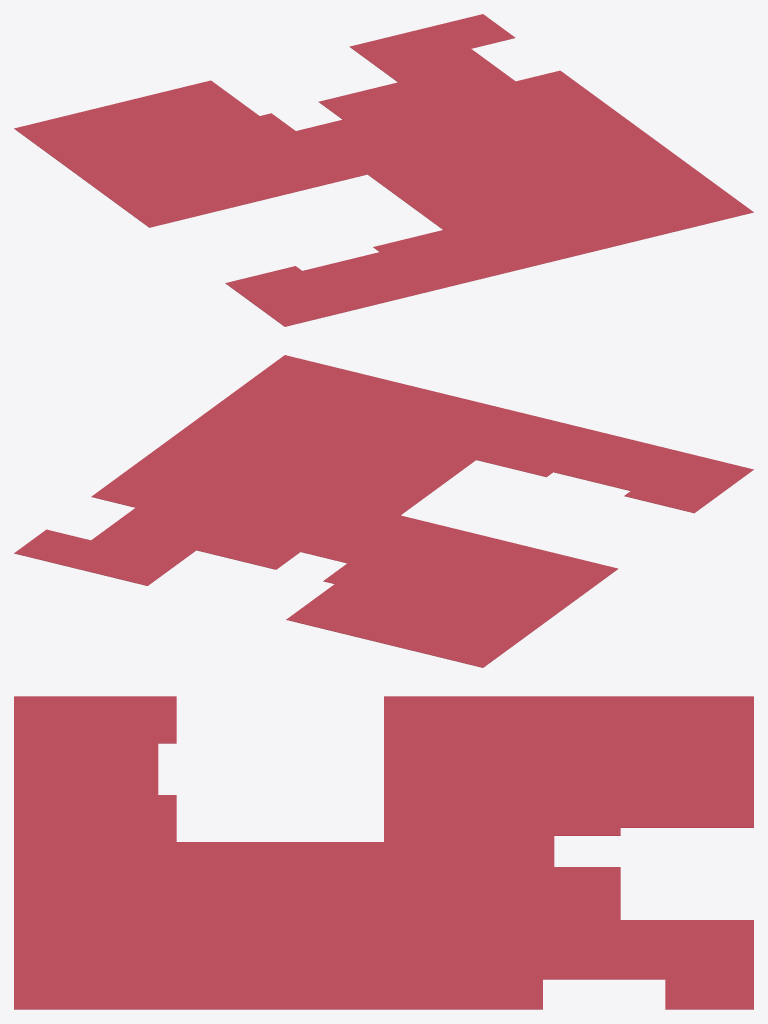
The picture shows the model from 3 angles, top to bottom: view 1: azimuth 30°, elevation 25°; view 2: azimuth 150°, elevation 25°; view 3: azimuth 270°, elevation 25°; orthographic projection. The views are drawn at different scales.
Parts seen in each view (by area): view 1: Mesh_Mesh_head_geo.001_lambert2SG.001; view 2: Mesh_Mesh_head_geo.001_lambert2SG.001; view 3: Mesh_Mesh_head_geo.001_lambert2SG.001.
Boxes of the visible parts, x1,y1,x2,y2 form: Mesh_Mesh_head_geo.001_lambert2SG.001: (14,14,753,326); Mesh_Mesh_head_geo.001_lambert2SG.001: (14,355,753,667); Mesh_Mesh_head_geo.001_lambert2SG.001: (14,696,753,1009).
Size of the model in its own units: 0.2 by 0.0001 by 0.2.
